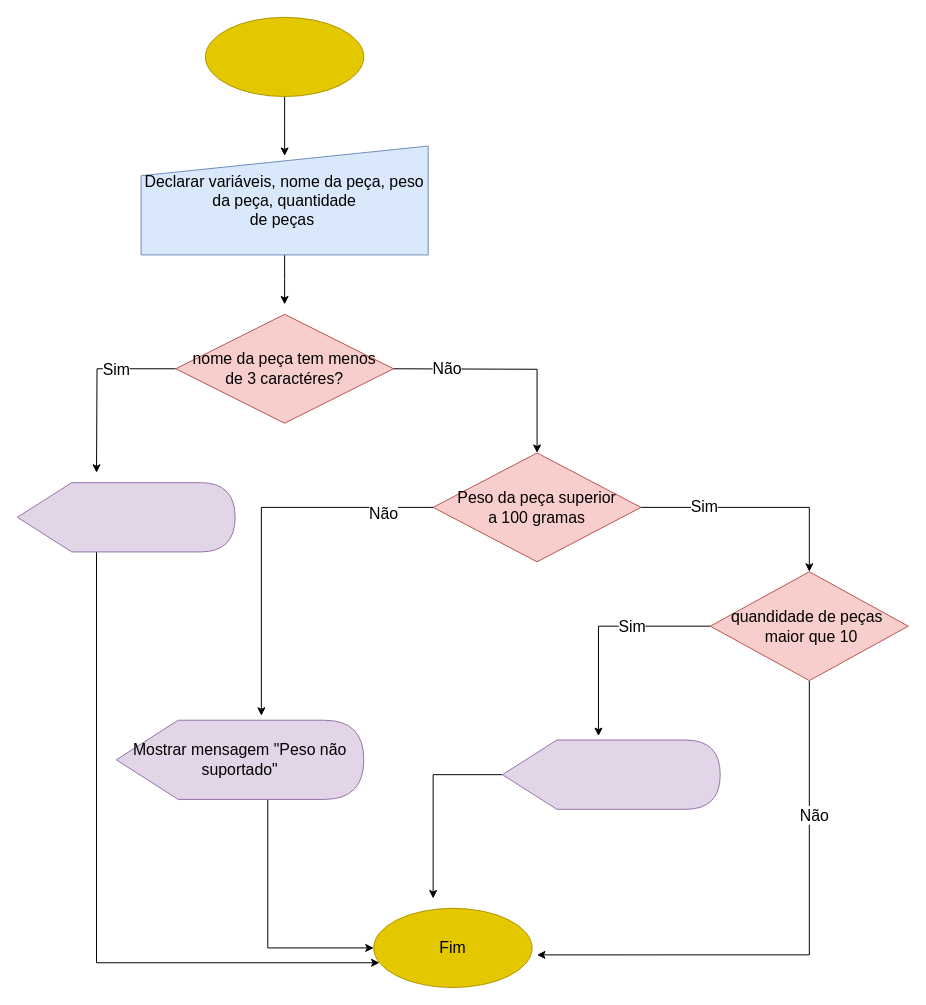
Some shapes in this 926 by 1005 pixel diagram are drawn without their labels. Here are the shapes that lost their labels. From the top down, the centre of each, then its label:
(x=284, y=56): Início
(x=125, y=517): mostrar mensagem "Nome inválido"
(x=610, y=774): Mostrar mensagem "Capacidade insuficiente"
